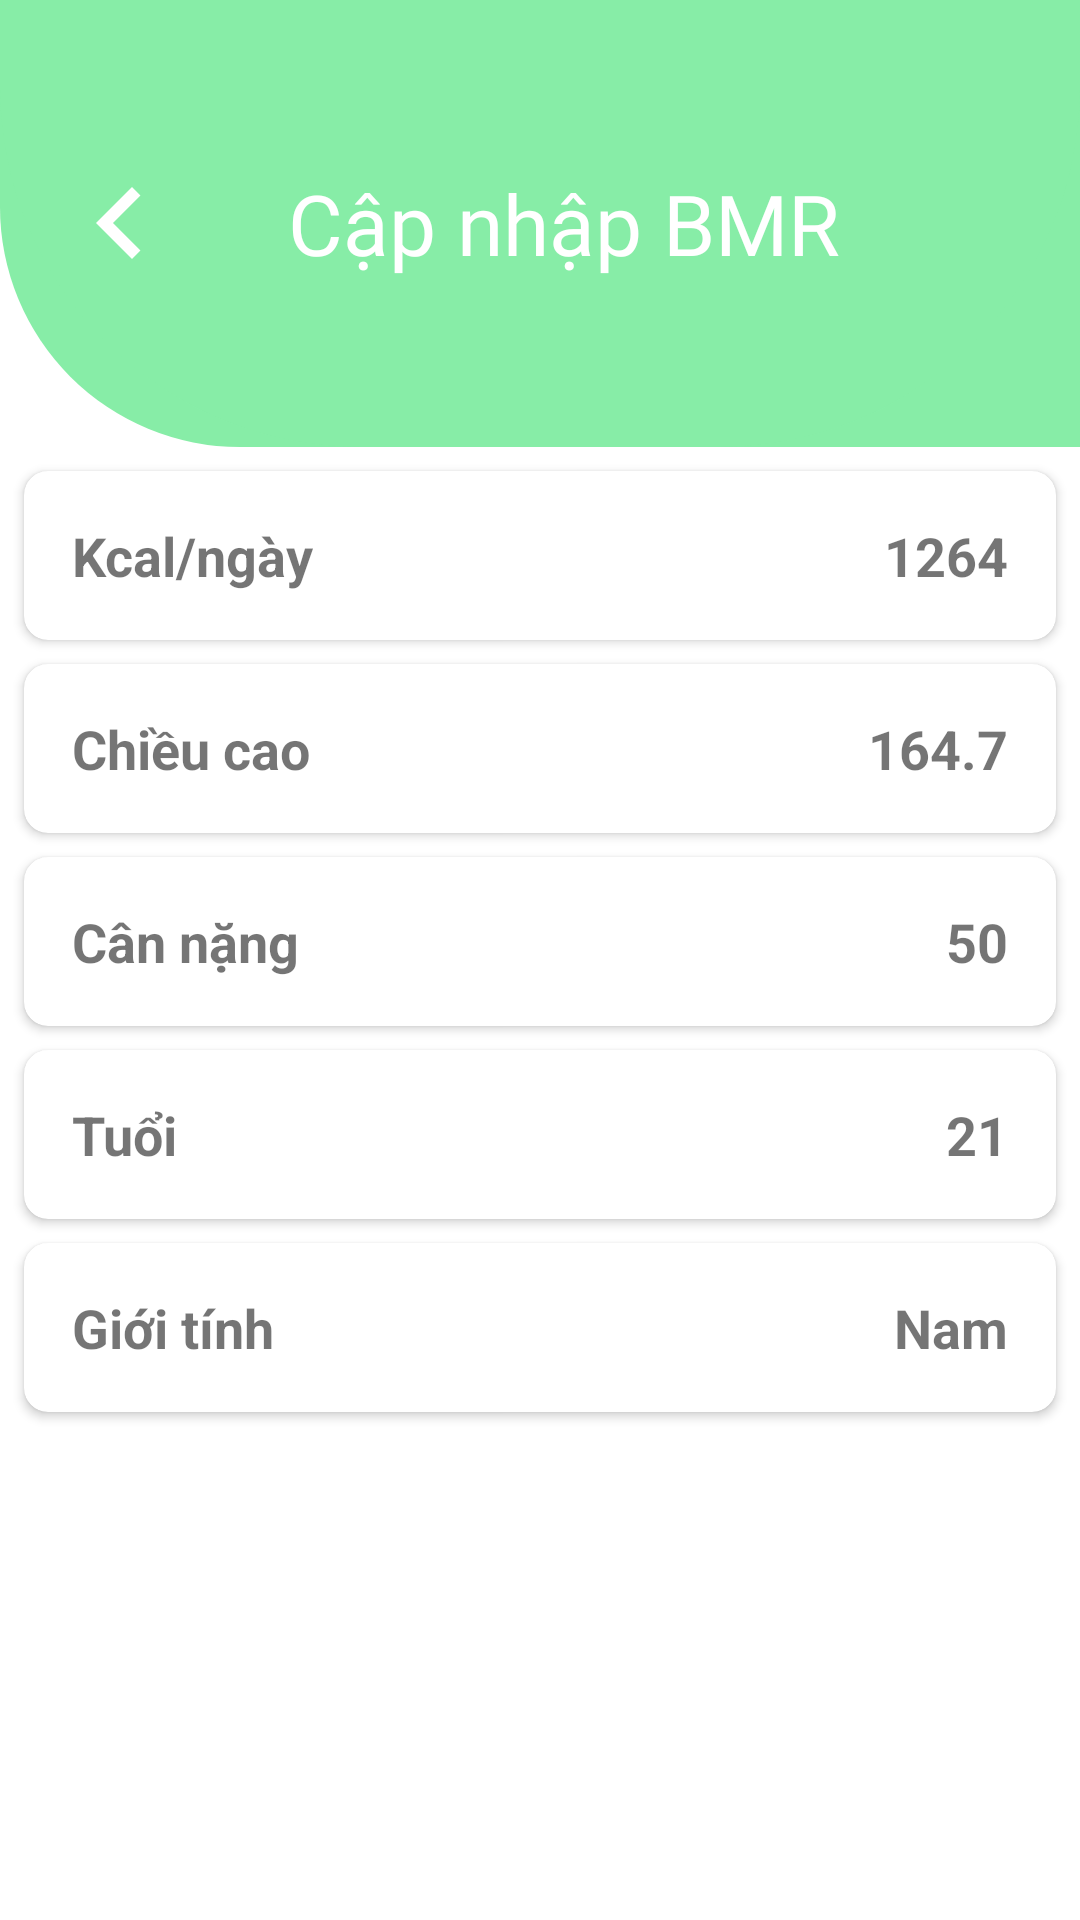

Named icons in this screenshot (1080×1920) and their bounding boxes, BBox(x1, y1, x2, y2):
Back: BBox(96, 187, 140, 259)
